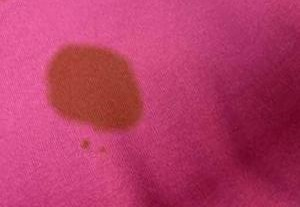stain: (41, 41, 153, 135), (79, 136, 92, 151), (97, 143, 109, 156)
